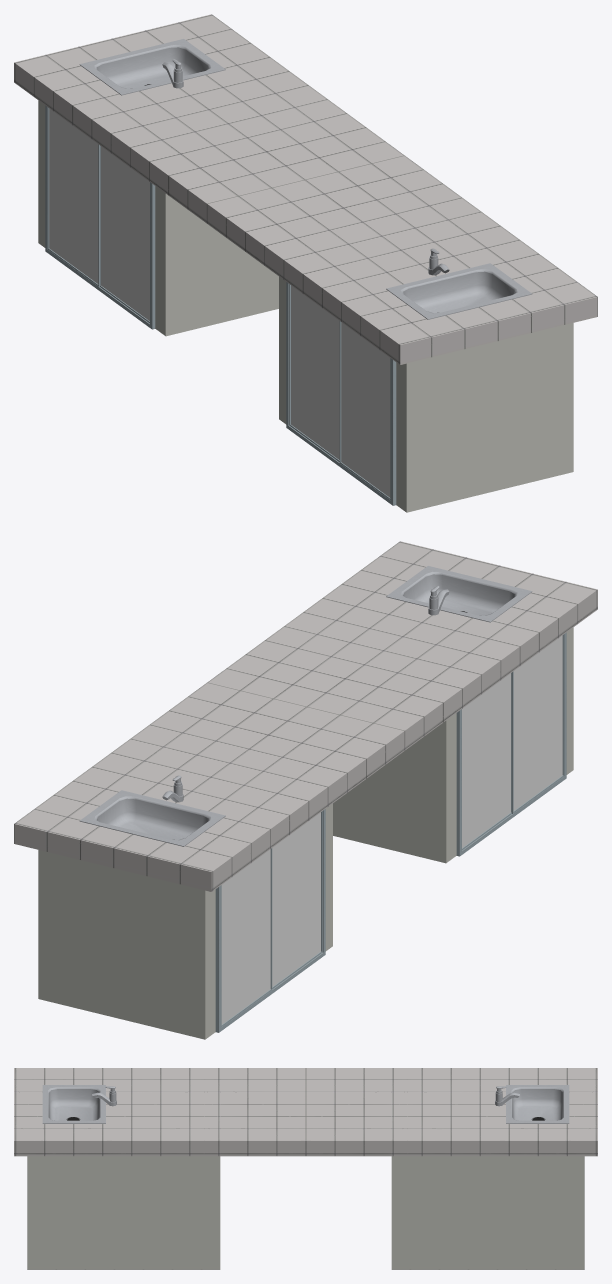
The model's file is Lab Table.fbx.
3 renders of one model, top to bottom at view 1: azimuth 30°, elevation 25°; view 2: azimuth 150°, elevation 25°; view 3: azimuth 270°, elevation 25°, orthographic. The views are drawn at different scales.
Visible parts, largest first — view 1: table, Washer, table_glass.003, table_glass.002, table_glass.001, table_glass.005, table.001; view 2: table, Washer, table_glass.002, table_glass.003, table_glass.005, table_glass.001, table.001; view 3: table, Washer.
Part boxes in pixels (left/top/right/bottom): table: left=14, top=14, right=597, bottom=512; Washer: left=79, top=39, right=532, bottom=319; table_glass.003: left=47, top=107, right=99, bottom=286; table_glass.002: left=339, top=321, right=390, bottom=500; table_glass.001: left=289, top=284, right=339, bottom=461; table_glass.005: left=100, top=145, right=149, bottom=323; table.001: left=45, top=105, right=396, bottom=505; table: left=14, top=541, right=597, bottom=1039; Washer: left=79, top=566, right=532, bottom=846; table_glass.002: left=512, top=634, right=564, bottom=813; table_glass.003: left=221, top=848, right=272, bottom=1027; table_glass.005: left=272, top=811, right=322, bottom=988; table_glass.001: left=462, top=672, right=511, bottom=850; table.001: left=215, top=632, right=566, bottom=1032; table: left=14, top=1068, right=597, bottom=1269; Washer: left=42, top=1085, right=569, bottom=1123.
Size of the model in its own units: 114 by 111 by 386.
Materials: 4 (3 with a texture image).
